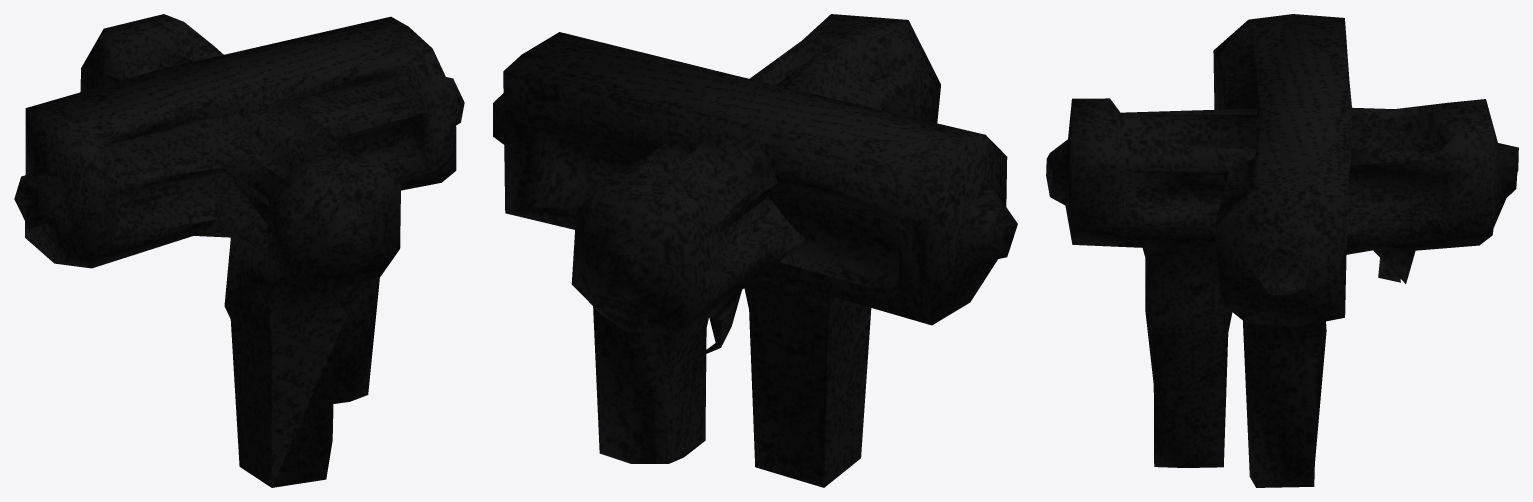
The model's file is humming-fluorescent.glb.
3 renders of one model, left to right at view 1: azimuth 30°, elevation 25°; view 2: azimuth 150°, elevation 25°; view 3: azimuth 270°, elevation 25°, orthographic. The views are drawn at different scales.
Parts seen in each view (by area): view 1: geometry_0.001; view 2: geometry_0.001; view 3: geometry_0.001.
Part boxes in pixels (x1,y1,x2,y2): geometry_0.001: (14, 14, 464, 487); geometry_0.001: (493, 14, 1017, 487); geometry_0.001: (1046, 14, 1518, 487).
Size of the model in its own units: 0.998 by 0.7904 by 0.9568.
Materials: 1 (1 with a texture image).
